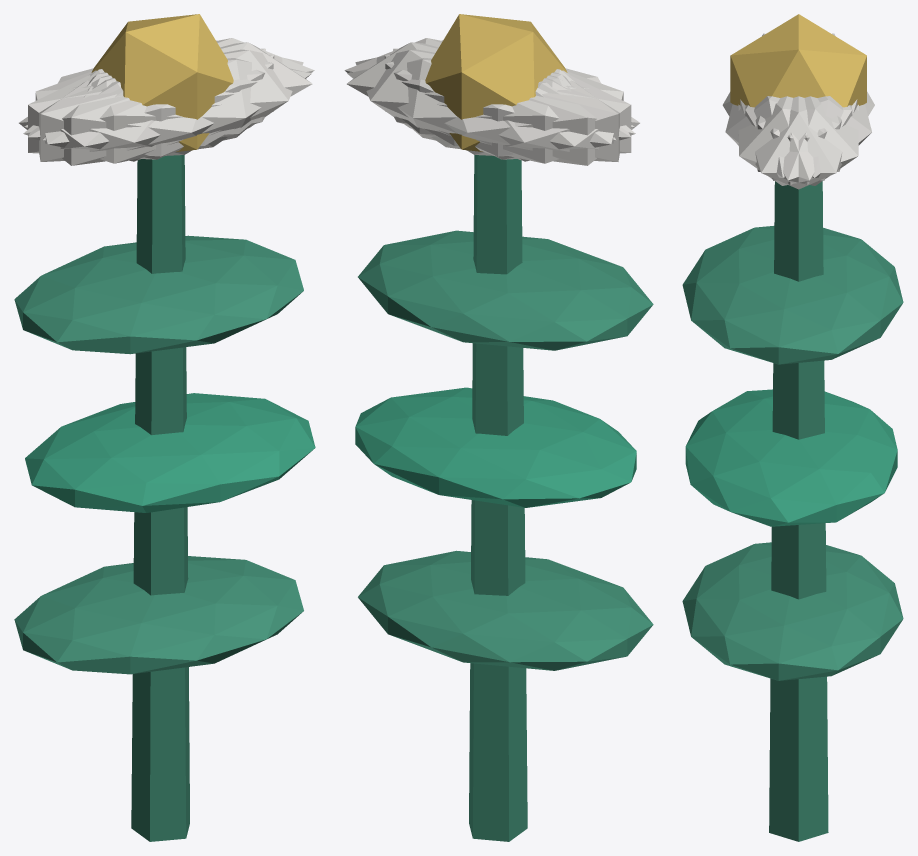
Rendered from cosmos-sulphureus.glb.
3 renders of one model, left to right at view 1: azimuth 30°, elevation 25°; view 2: azimuth 150°, elevation 25°; view 3: azimuth 270°, elevation 25°, orthographic.
Parts seen in each view (by area): view 1: stem, leaf1, leaf2, leaf0, center, petal1, petal6, petal2, petal5, petal7, petal0, petal4 (+2 smaller); view 2: stem, leaf2, leaf0, leaf1, center, petal8, petal3, petal7, petal4, petal2, petal0, petal5 (+2 smaller); view 3: stem, leaf2, leaf1, leaf0, center, petal0, petal5, petal4, petal1, petal8.
Part boxes in pixels (bbox=[...]): stem: bbox=[131, 155, 189, 841]; leaf1: bbox=[25, 393, 315, 512]; leaf2: bbox=[14, 235, 303, 354]; leaf0: bbox=[14, 556, 303, 674]; center: bbox=[91, 14, 233, 151]; petal1: bbox=[23, 58, 311, 163]; petal6: bbox=[19, 70, 227, 165]; petal2: bbox=[39, 48, 265, 161]; petal5: bbox=[43, 49, 303, 156]; petal7: bbox=[28, 54, 274, 159]; petal0: bbox=[91, 42, 312, 146]; petal4: bbox=[24, 38, 314, 137]; stem: bbox=[469, 155, 527, 841]; leaf2: bbox=[358, 230, 653, 350]; leaf0: bbox=[358, 550, 653, 670]; leaf1: bbox=[355, 387, 636, 507]; center: bbox=[425, 14, 567, 151]; petal8: bbox=[347, 58, 635, 163]; petal3: bbox=[431, 70, 639, 165]; petal7: bbox=[393, 48, 619, 161]; petal4: bbox=[355, 49, 615, 156]; petal2: bbox=[384, 54, 631, 159]; petal0: bbox=[347, 42, 567, 146]; petal5: bbox=[344, 38, 634, 137]; stem: bbox=[769, 181, 828, 841]; leaf2: bbox=[682, 226, 903, 364]; leaf1: bbox=[685, 389, 897, 526]; leaf0: bbox=[682, 542, 903, 680]; center: bbox=[730, 14, 866, 107]; petal0: bbox=[740, 96, 857, 189]; petal5: bbox=[738, 96, 852, 185]; petal4: bbox=[745, 96, 858, 185]; petal1: bbox=[725, 96, 841, 177]; petal8: bbox=[755, 96, 871, 177].
Size of the model in its own units: 0.1452 by 0.3942 by 0.0991.
